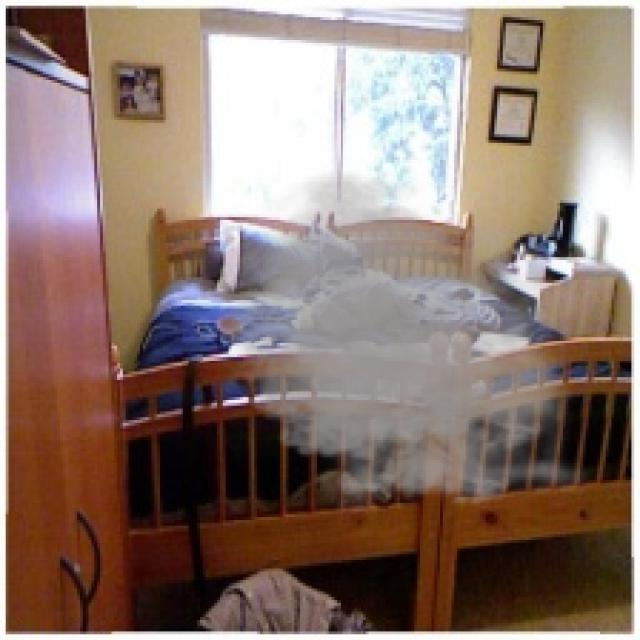smoke: (203, 160, 603, 523)
